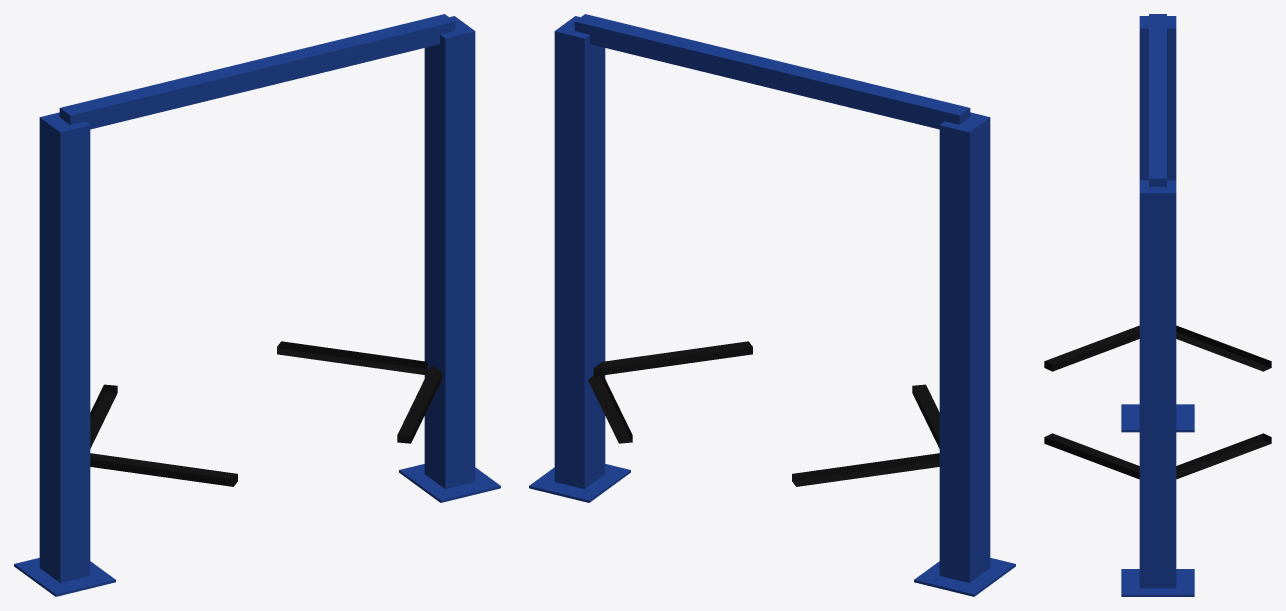
Rendered from home.garage.car_lift.glb.
3 views of the same model, side by side, from view 1: azimuth 30°, elevation 25°; view 2: azimuth 150°, elevation 25°; view 3: azimuth 270°, elevation 25° (orthographic). The views are drawn at different scales.
Parts seen in each view (by area): view 1: main__plastic_blue, main__plastic_black; view 2: main__plastic_blue, main__plastic_black; view 3: main__plastic_blue, main__plastic_black.
Part boxes in pixels (x1,y1,x2,y2): main__plastic_blue: [14, 14, 500, 596]; main__plastic_black: [90, 341, 441, 486]; main__plastic_blue: [529, 14, 1015, 596]; main__plastic_black: [588, 341, 939, 486]; main__plastic_blue: [1121, 14, 1194, 596]; main__plastic_black: [1044, 325, 1271, 479].
Bounding box in the file's own units: 3.7 × 3.67 × 1.87.
